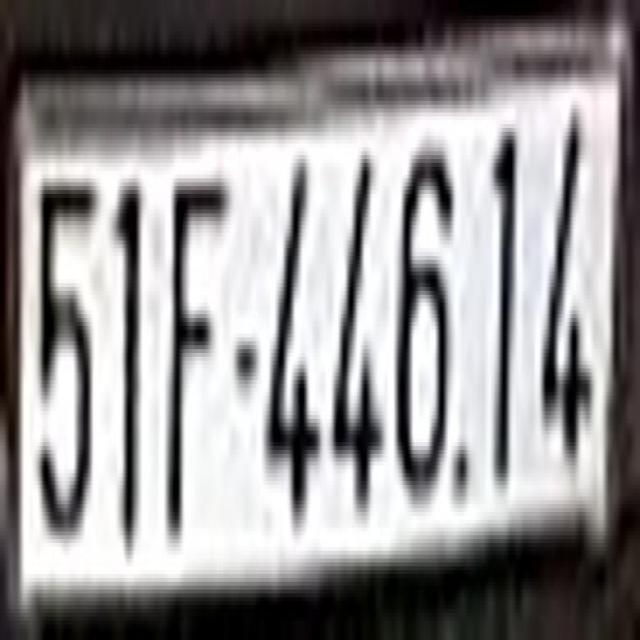1: (478, 112, 524, 496), (111, 178, 142, 562)
4: (538, 105, 602, 481), (327, 143, 384, 516), (266, 160, 318, 554)
5: (38, 171, 96, 544)
6: (396, 128, 454, 508)
F: (163, 151, 224, 524)
